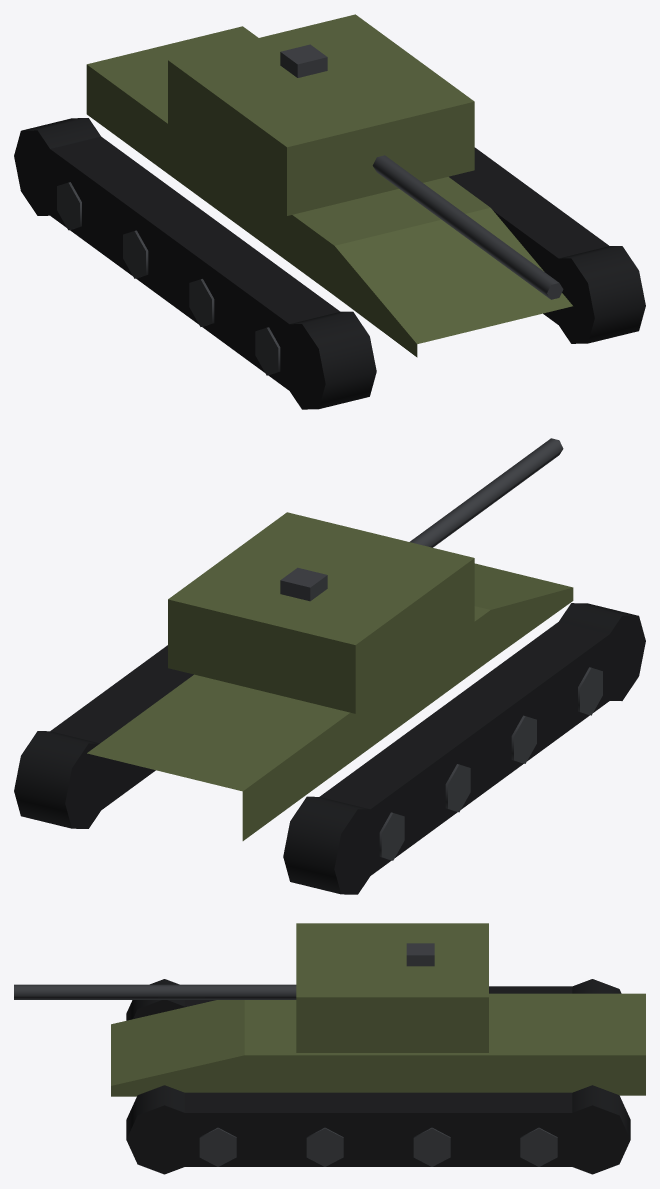
Rendered from veh_ground_tank_heavy_a08.glb.
The picture shows the model from 3 angles, top to bottom: view 1: azimuth 30°, elevation 25°; view 2: azimuth 150°, elevation 25°; view 3: azimuth 270°, elevation 25°; orthographic projection. The views are drawn at different scales.
Parts seen in each view (by area): view 1: turret, body, track_r, track_l; view 2: turret, track_r, body, track_l; view 3: body, track_l, turret, track_r.
Part boxes in pixels (x1,y1,x2,y2): turret: [168, 14, 563, 299]; body: [86, 26, 572, 357]; track_r: [14, 118, 376, 409]; track_l: [449, 147, 645, 343]; turret: [168, 438, 563, 713]; track_r: [283, 603, 645, 894]; body: [87, 563, 573, 840]; track_l: [14, 645, 193, 828]; body: [111, 943, 645, 1096]; track_l: [126, 1085, 630, 1174]; turret: [14, 923, 488, 1052]; track_r: [126, 979, 621, 1020].
Size of what is drawn, in the model's own units: 4.33 by 2.55 by 9.02.
